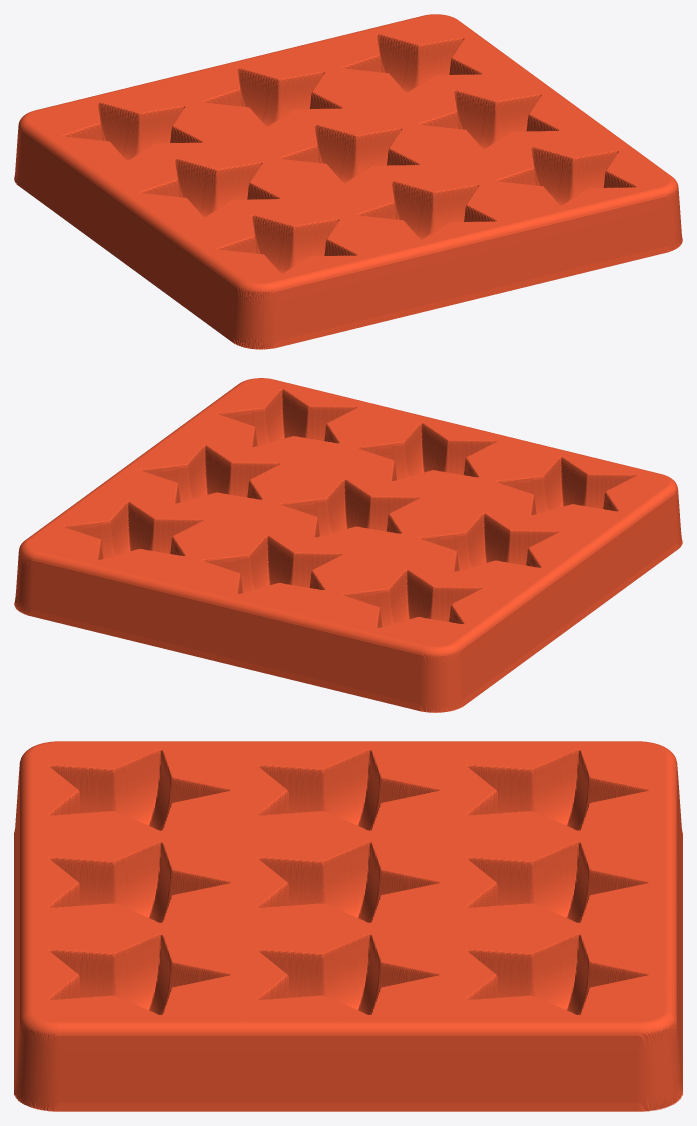
Rendered from mold.glb.
3 views of the same model, one above another, from view 1: azimuth 30°, elevation 25°; view 2: azimuth 150°, elevation 25°; view 3: azimuth 270°, elevation 25° (orthographic). The views are drawn at different scales.
Visible parts, largest first — view 1: geometry_0; view 2: geometry_0; view 3: geometry_0.
Part boxes in pixels (bbox=[...]): geometry_0: bbox=[14, 14, 682, 349]; geometry_0: bbox=[14, 378, 682, 712]; geometry_0: bbox=[14, 741, 682, 1111].
Size of the model in its own units: 0.1402 by 0.0182 by 0.1345.
